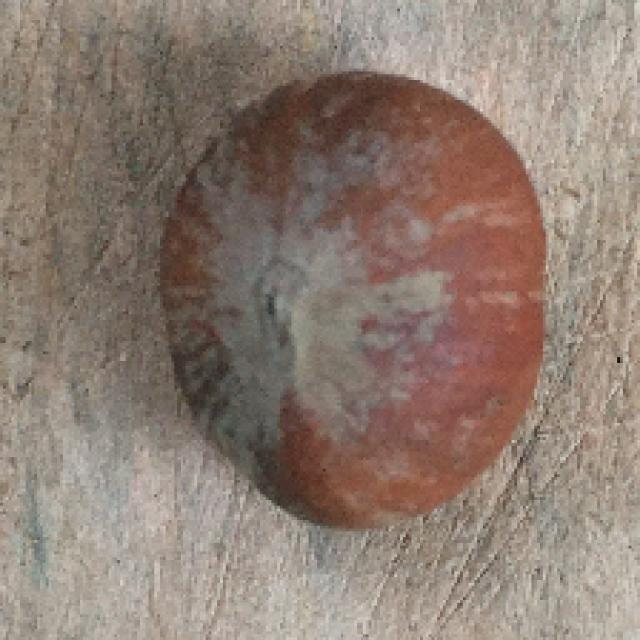qualityHazelnut: (154, 64, 547, 531)
